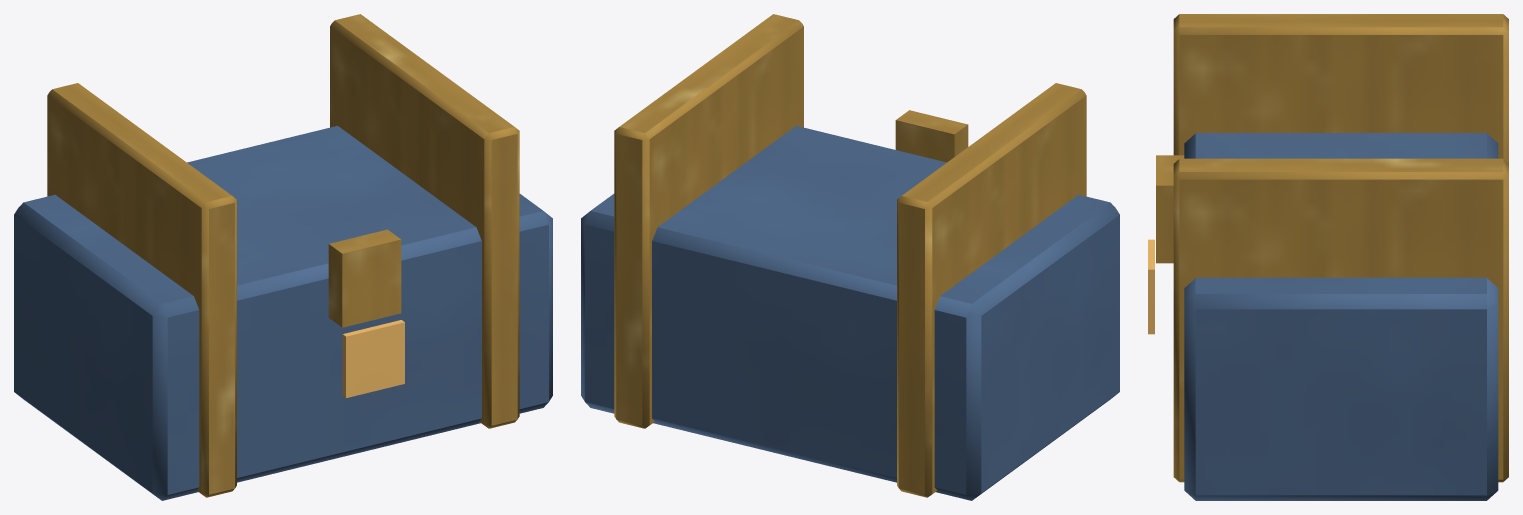
Rendered from SM_Chest_Rare.fbx.
The picture shows the model from 3 angles, left to right: view 1: azimuth 30°, elevation 25°; view 2: azimuth 150°, elevation 25°; view 3: azimuth 270°, elevation 25°; orthographic projection. The views are drawn at different scales.
Visible parts, largest first — view 1: SM_Chest_Rare; view 2: SM_Chest_Rare; view 3: SM_Chest_Rare.
Part boxes in pixels (<box>): SM_Chest_Rare: <box>14,14,552,500</box>; SM_Chest_Rare: <box>581,14,1119,500</box>; SM_Chest_Rare: <box>1148,14,1508,500</box>.
Size of the model in its own units: 3.4 by 2.4 by 2.53.
Materials: 1 (1 with a texture image).
